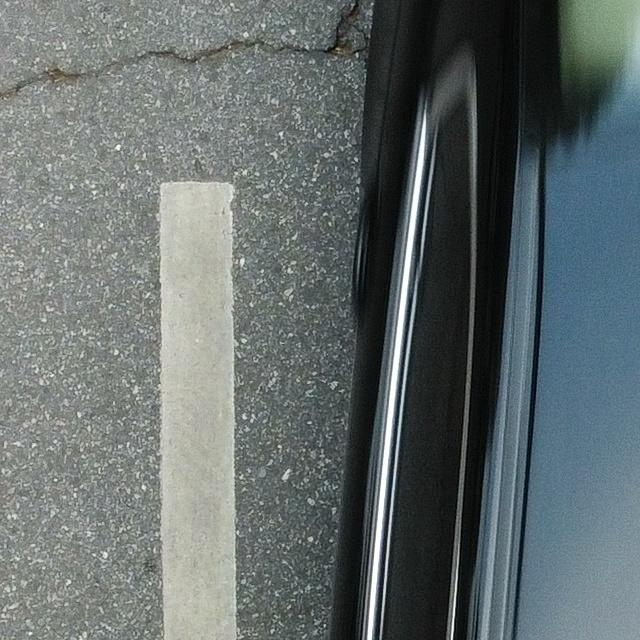TransverseCrack: (1, 2, 373, 99)
